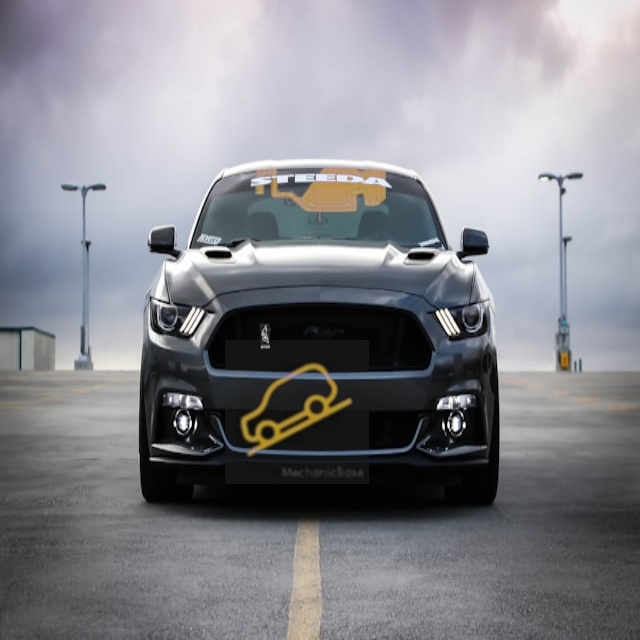symbol: (224, 77, 415, 268), (225, 340, 369, 484)
